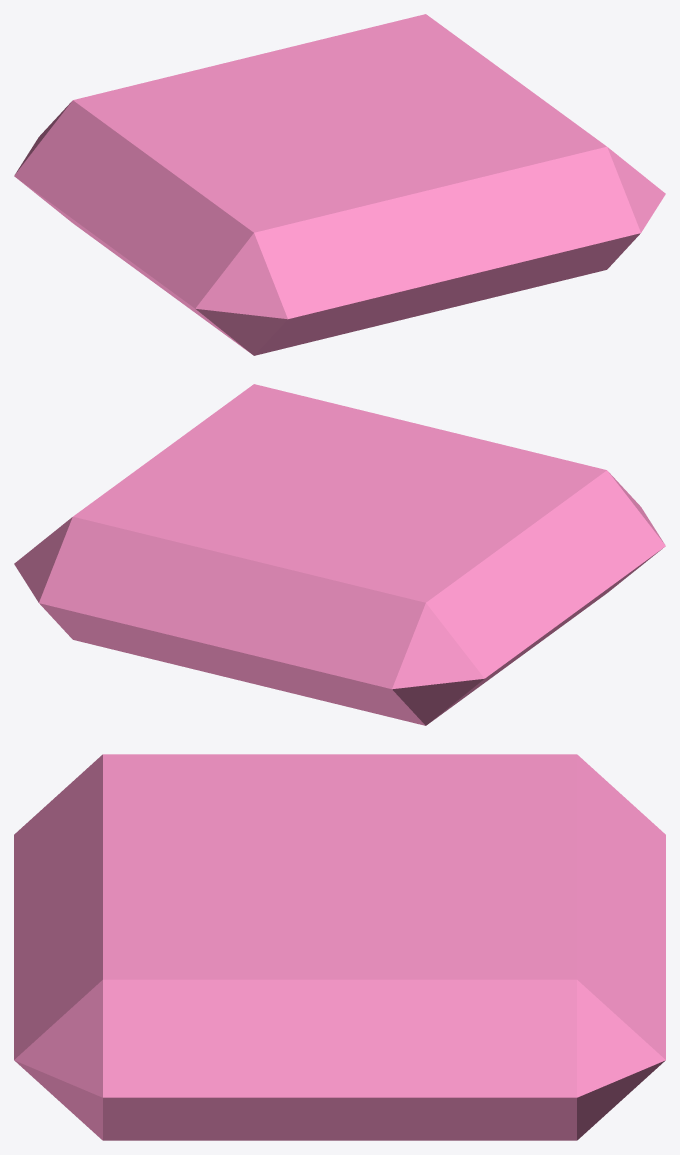
3 views of the same model, one above another, from view 1: azimuth 30°, elevation 25°; view 2: azimuth 150°, elevation 25°; view 3: azimuth 270°, elevation 25° (orthographic). The views are drawn at different scales.
Visible parts, largest first — view 1: Meditation cushion; view 2: Meditation cushion; view 3: Meditation cushion.
Part boxes in pixels (x1=…): Meditation cushion: x1=14, y1=14, x2=665, y2=355; Meditation cushion: x1=14, y1=384, x2=665, y2=725; Meditation cushion: x1=14, y1=754, x2=665, y2=1140.
Bounding box in the file's own units: 48 × 12 × 44.
